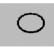no answer: (15, 12, 46, 34)
